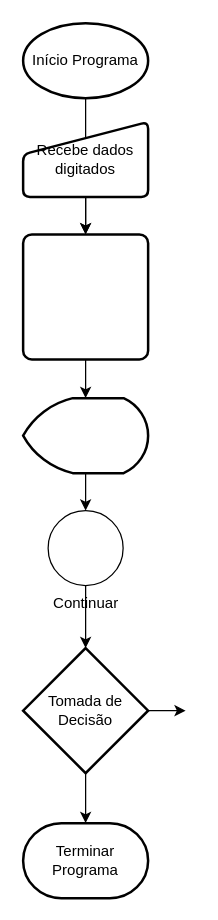
Some shapes in this 218 by 920 pixel diagram are drawn without their labels. Here are the shapes that lost their labels. From the top down, the centre of each, then its label:
the point at 85,296: Processar / Calcular
the point at 85,435: Apresentar resultado na tela
